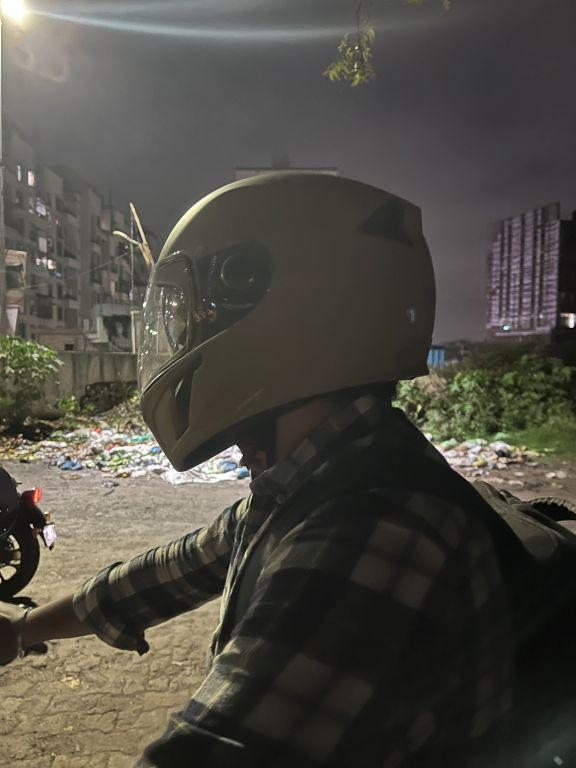helmet: (122, 150, 448, 493)
